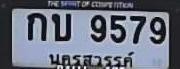5: (110, 14, 125, 42)
7: (129, 15, 145, 43)
9: (149, 16, 165, 43), (90, 14, 105, 41)
A01: (26, 12, 46, 40)
A26: (51, 12, 70, 41)
NSN: (43, 48, 135, 69)
